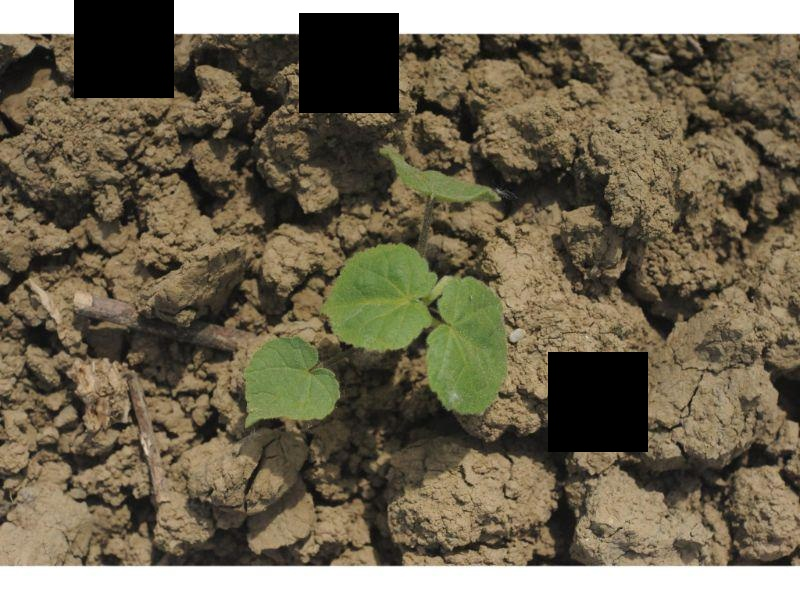velvet: (244, 156, 508, 433)
